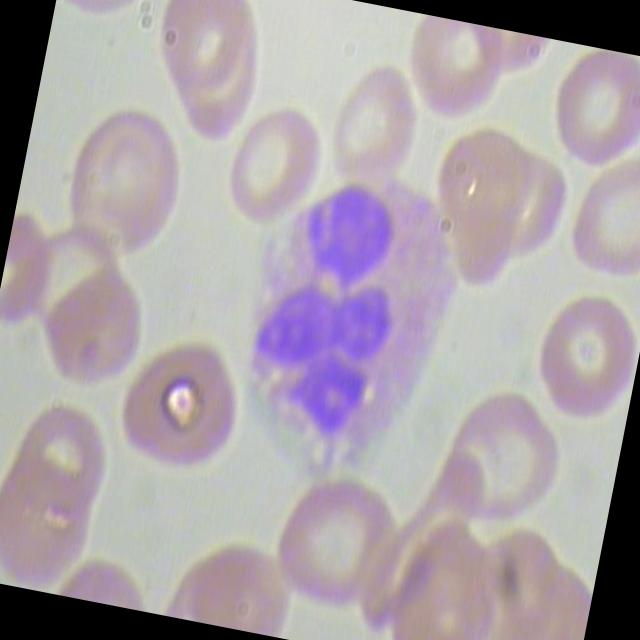RBC: (98, 320, 264, 495), (42, 99, 202, 273), (258, 471, 412, 618), (519, 267, 640, 435), (436, 386, 567, 536), (525, 39, 640, 186), (217, 100, 333, 238), (143, 0, 273, 113), (327, 57, 430, 194), (560, 140, 640, 290)
WBC: (207, 154, 478, 496)
